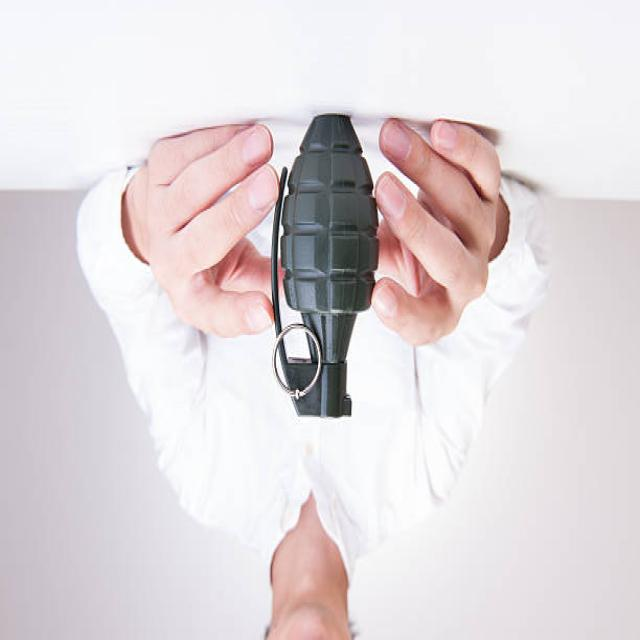grenade: (265, 114, 382, 427)
